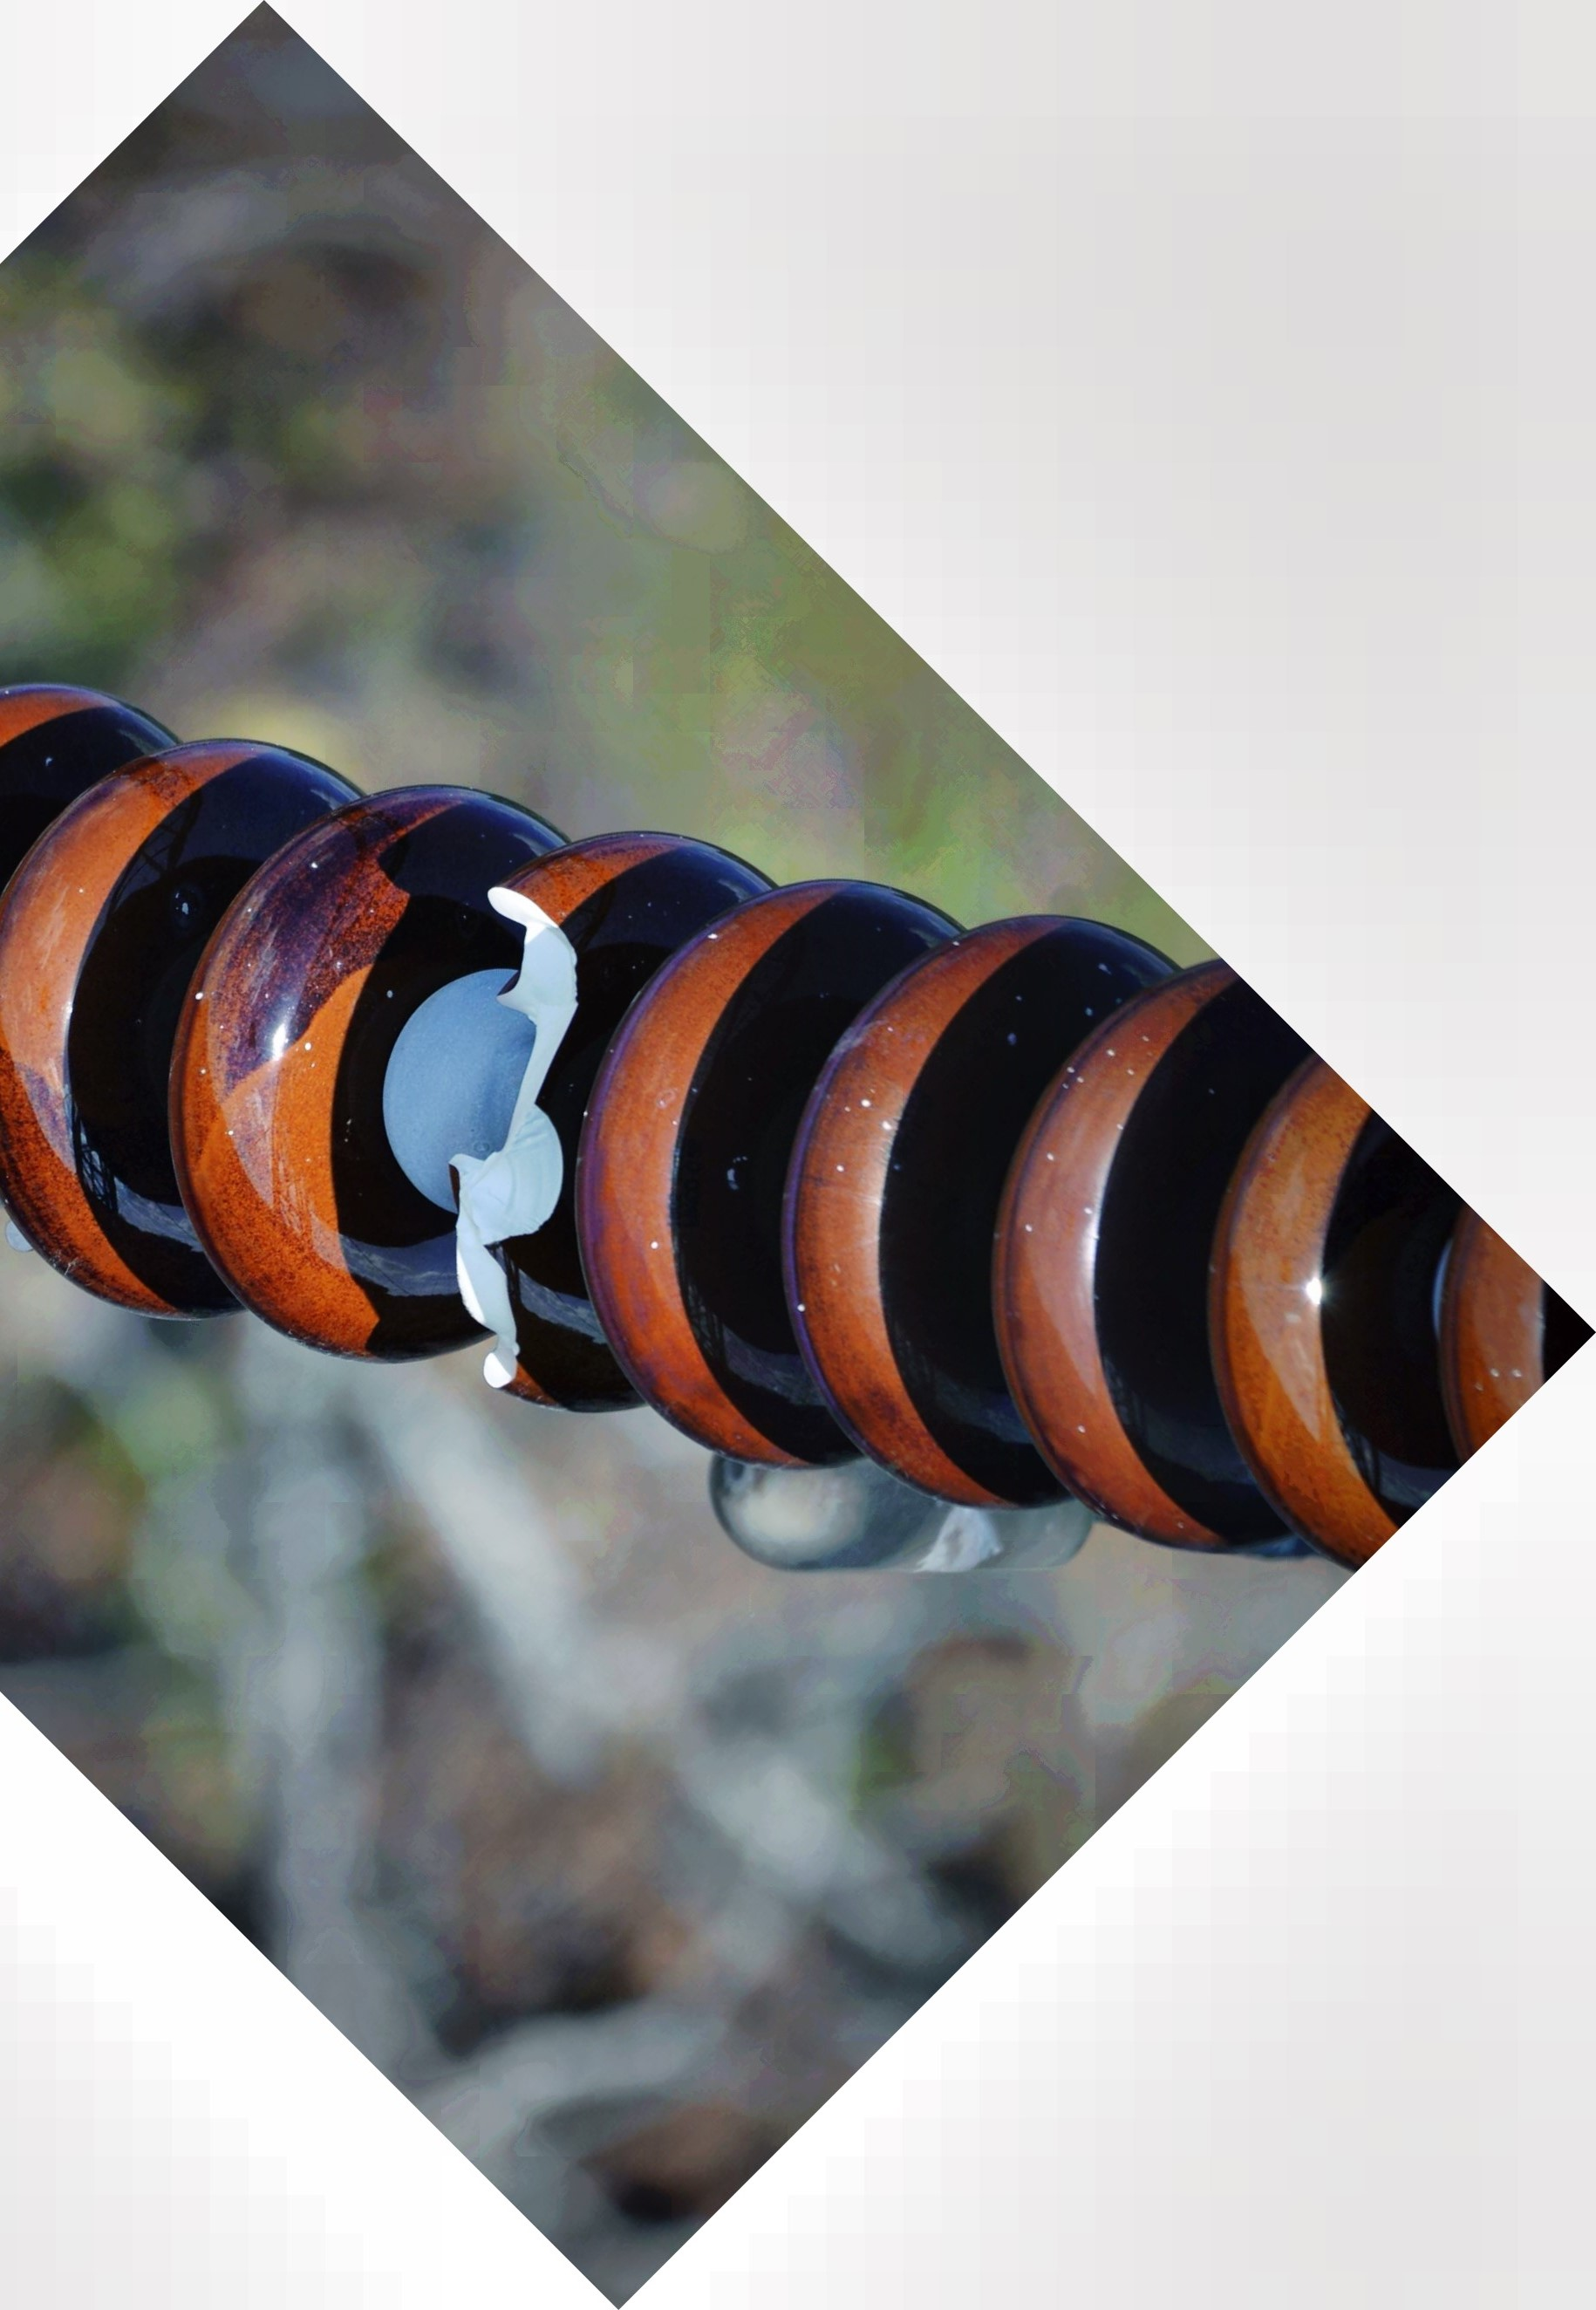insulator breakage: (428, 820, 771, 1427)
